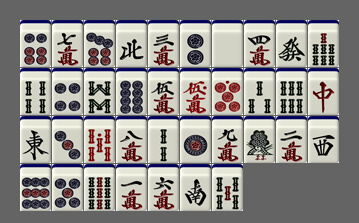0m: (180, 68, 211, 115)
0p: (212, 68, 243, 115)
0s: (84, 116, 115, 163)
1m: (116, 164, 147, 211)
1p: (180, 116, 211, 163)
1s: (244, 116, 275, 163)
1z: (20, 116, 51, 163)
2m: (276, 116, 307, 163)
2p: (180, 20, 211, 67)
2s: (148, 116, 179, 163)
2z: (180, 164, 211, 211)
3m: (148, 20, 179, 67)
3p: (52, 116, 83, 163)
3s: (244, 68, 275, 115)
3z: (308, 116, 339, 163)
4m: (244, 20, 275, 67)
4p: (52, 68, 83, 115)
4s: (20, 68, 51, 115)
4z: (116, 20, 147, 67)
5m: (148, 68, 179, 115)
5p: (52, 164, 83, 211)
5s: (212, 164, 243, 211)
5z: (212, 20, 243, 67)
6m: (148, 164, 179, 211)
6p: (20, 20, 51, 67)
6s: (276, 68, 307, 115)
6z: (276, 20, 307, 67)
7m: (52, 20, 83, 67)
7p: (84, 20, 115, 67)
7s: (308, 20, 339, 67)
7z: (308, 68, 339, 115)
8m: (116, 116, 147, 163)
8p: (116, 68, 147, 115)
8s: (84, 68, 115, 115)
9m: (212, 116, 243, 163)
9p: (20, 164, 51, 211)
9s: (84, 164, 115, 211)
